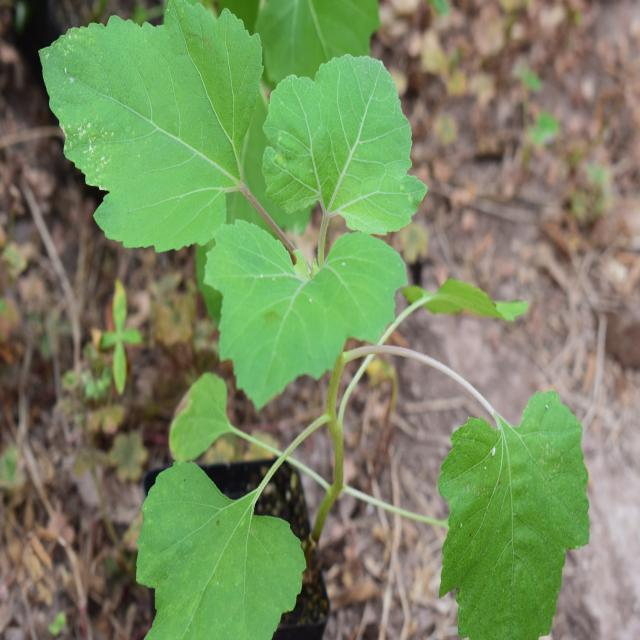cocklebur: (35, 9, 569, 588)
